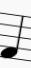F: (1, 11, 24, 62)
